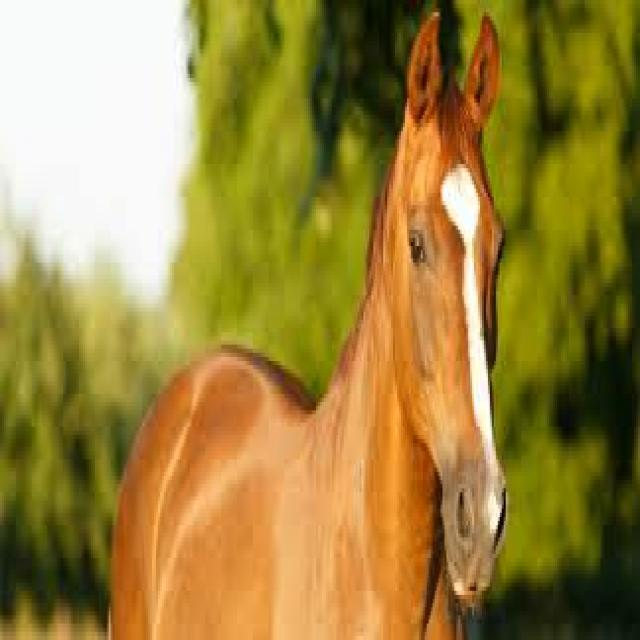horse: (109, 12, 506, 636)
